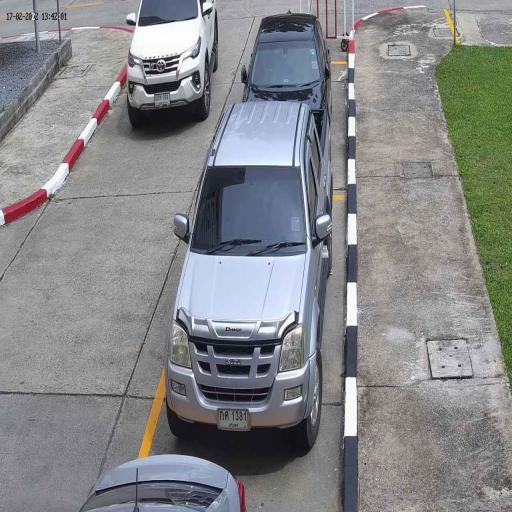car: (164, 98, 334, 447), (125, 0, 220, 127), (72, 451, 250, 512), (240, 11, 334, 113)
